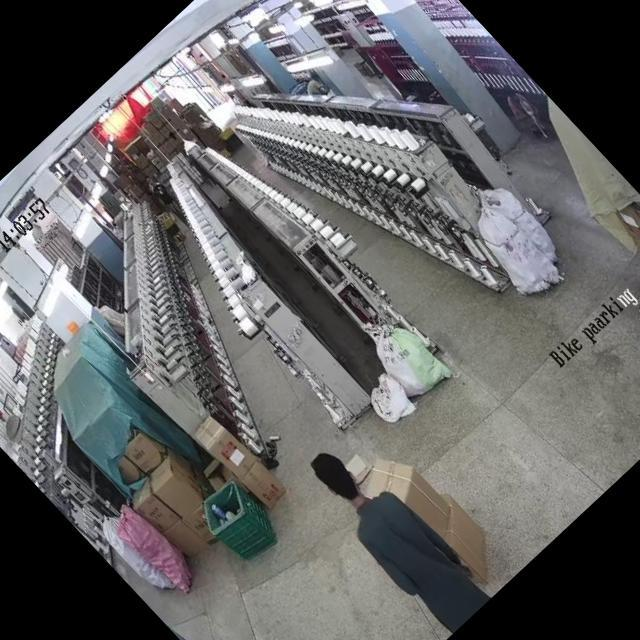person: (297, 432, 493, 636), (141, 170, 185, 216)
